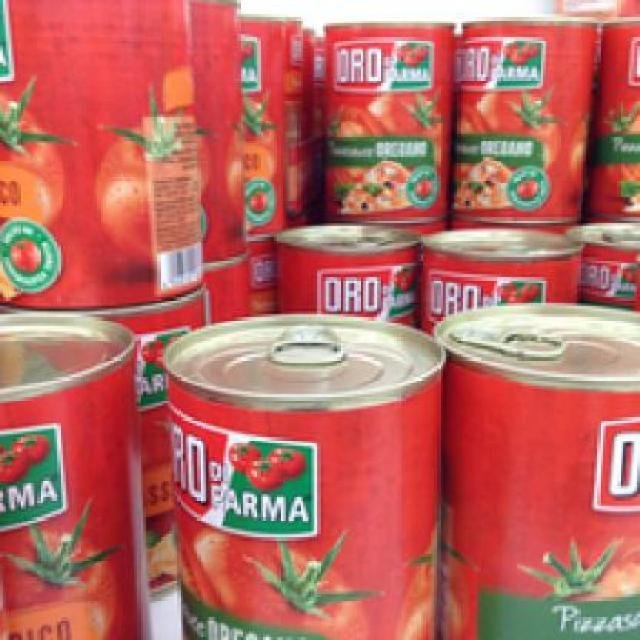Tomato Sauce: (160, 305, 446, 638), (440, 297, 637, 634), (448, 14, 598, 220), (314, 14, 454, 217)
